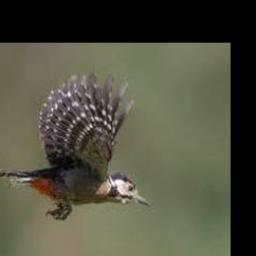Woodpecker: (0, 73, 154, 218)
